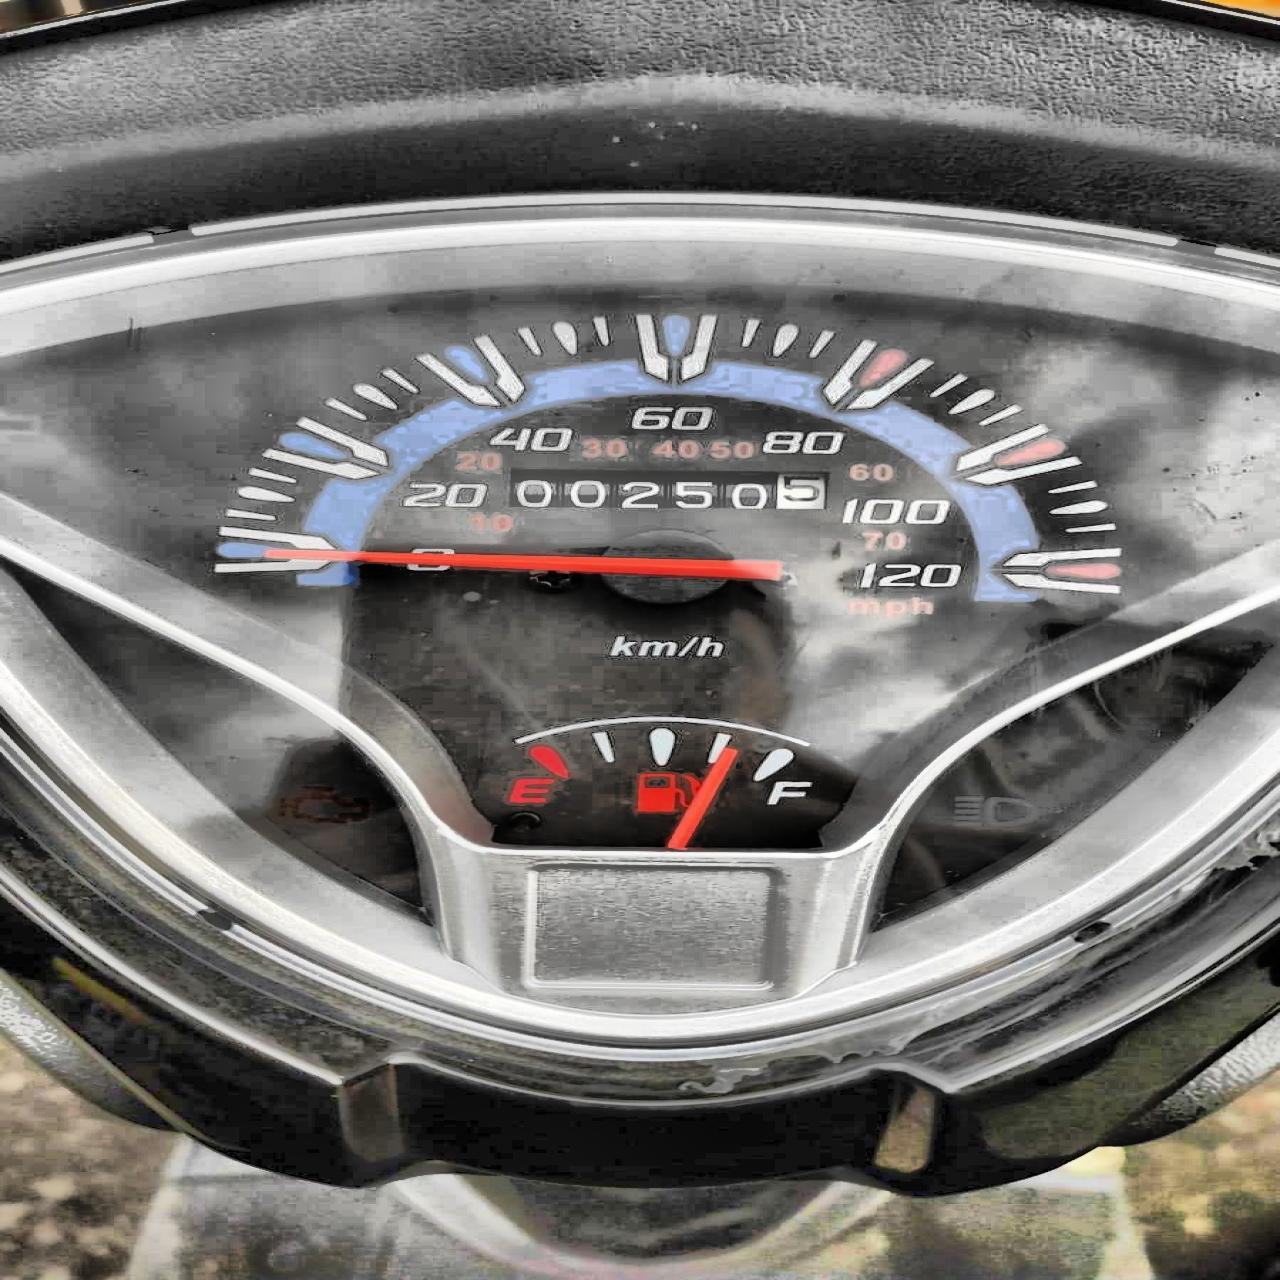0: (515, 477, 554, 507), (565, 478, 605, 507), (729, 480, 770, 508)
2: (619, 478, 662, 509)
5: (779, 473, 821, 504), (673, 479, 715, 508)
odometer: (507, 466, 827, 511)
